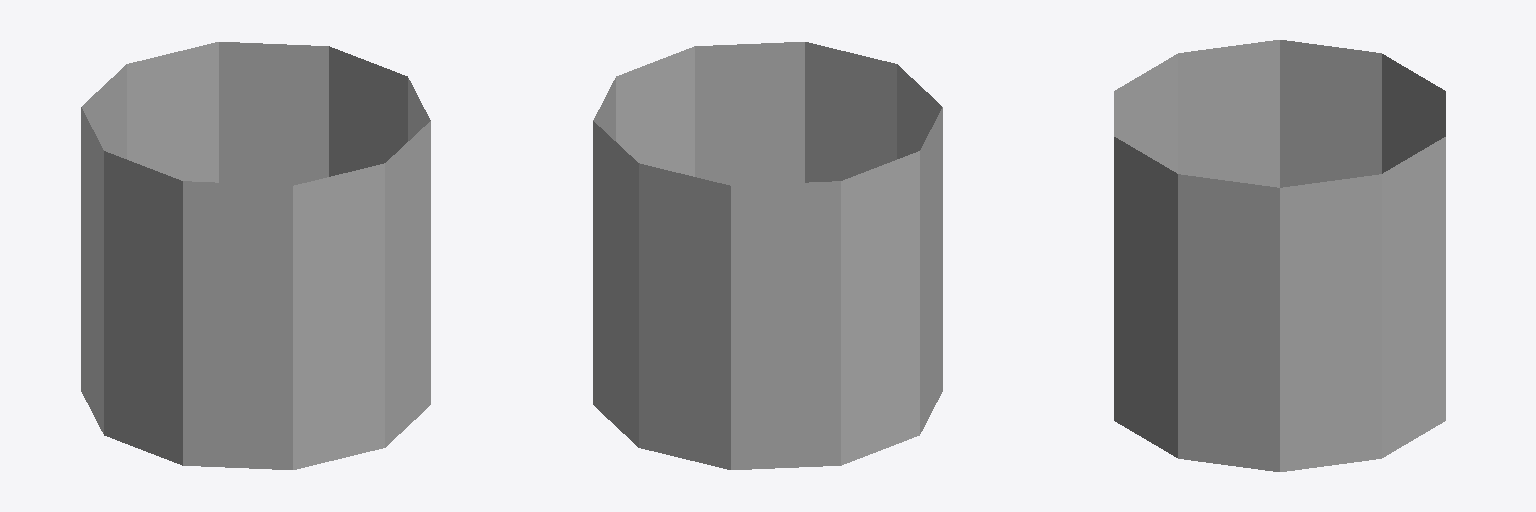
File: wood.obj
3 renders of one model, left to right at view 1: azimuth 30°, elevation 25°; view 2: azimuth 150°, elevation 25°; view 3: azimuth 270°, elevation 25°, orthographic.
Visible parts, largest first — view 1: bedroom#2.001_Mesh.001; view 2: bedroom#2.001_Mesh.001; view 3: bedroom#2.001_Mesh.001.
Boxes of the visible parts, box(x1,y1,x2,y2) form: bedroom#2.001_Mesh.001: box(81, 42, 430, 469); bedroom#2.001_Mesh.001: box(593, 42, 942, 469); bedroom#2.001_Mesh.001: box(1114, 40, 1445, 471).
Bounding box in the file's own units: 0.8193 × 0.733 × 0.7761.